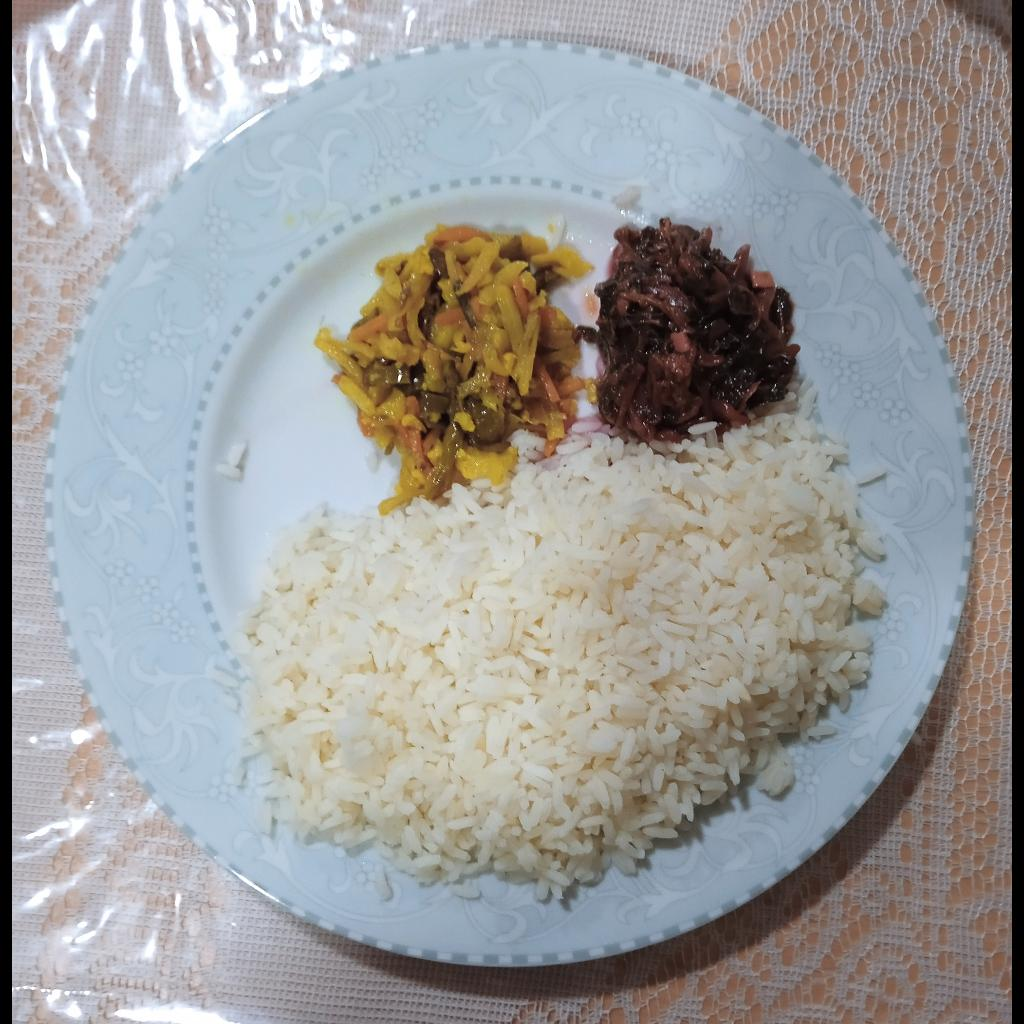rice: (231, 410, 890, 885)
shak: (588, 213, 799, 442)
vegetable: (315, 224, 597, 516)
